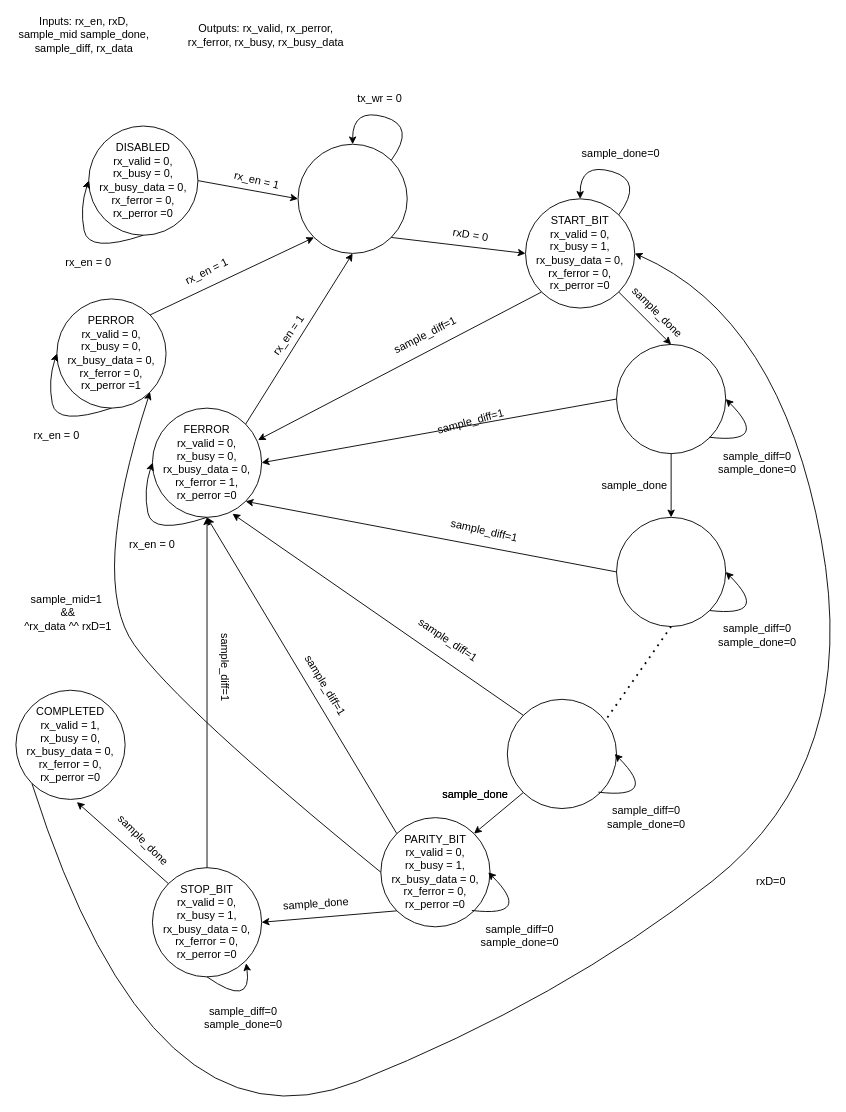
Image size: 846x1112. Some labels were removed from this diagram. Here are the shapes that lost their labels. From the top down, the centre of each, then its label:
At (x=352, y=198): "IDLE rx_valid = 0, rx_busy = 0, rx_busy_data = 0, rx_ferror = 0, rx_perror =0".
At (x=671, y=399): "BIT_0 rx_valid = 0, rx_busy = 1, rx_busy_data = 1, rx_ferror = 0, rx_perror =0".
At (x=671, y=571): "BIT_1 rx_valid = 0, rx_busy = 1, rx_busy_data = 1, rx_ferror = 0, rx_perror =0".
At (x=561, y=753): "BIT_7 rx_valid = 0, rx_busy = 1, rx_busy_data = 1, rx_ferror = 0, rx_perror =0".
